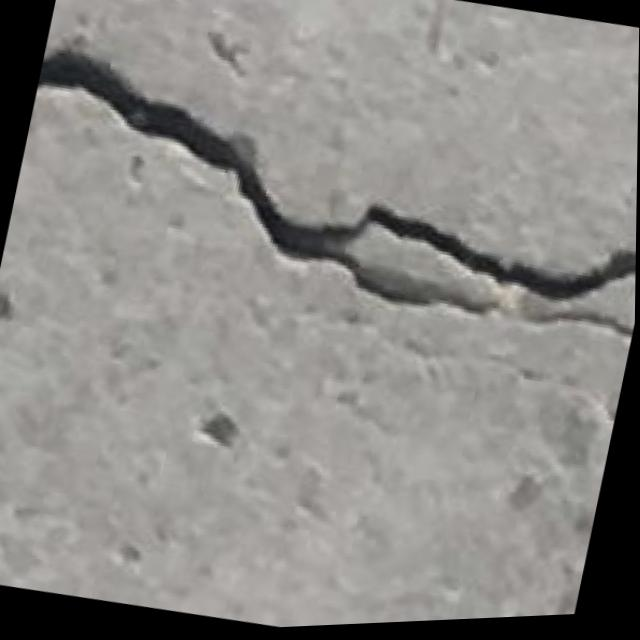Crack: (0, 0, 640, 402)
